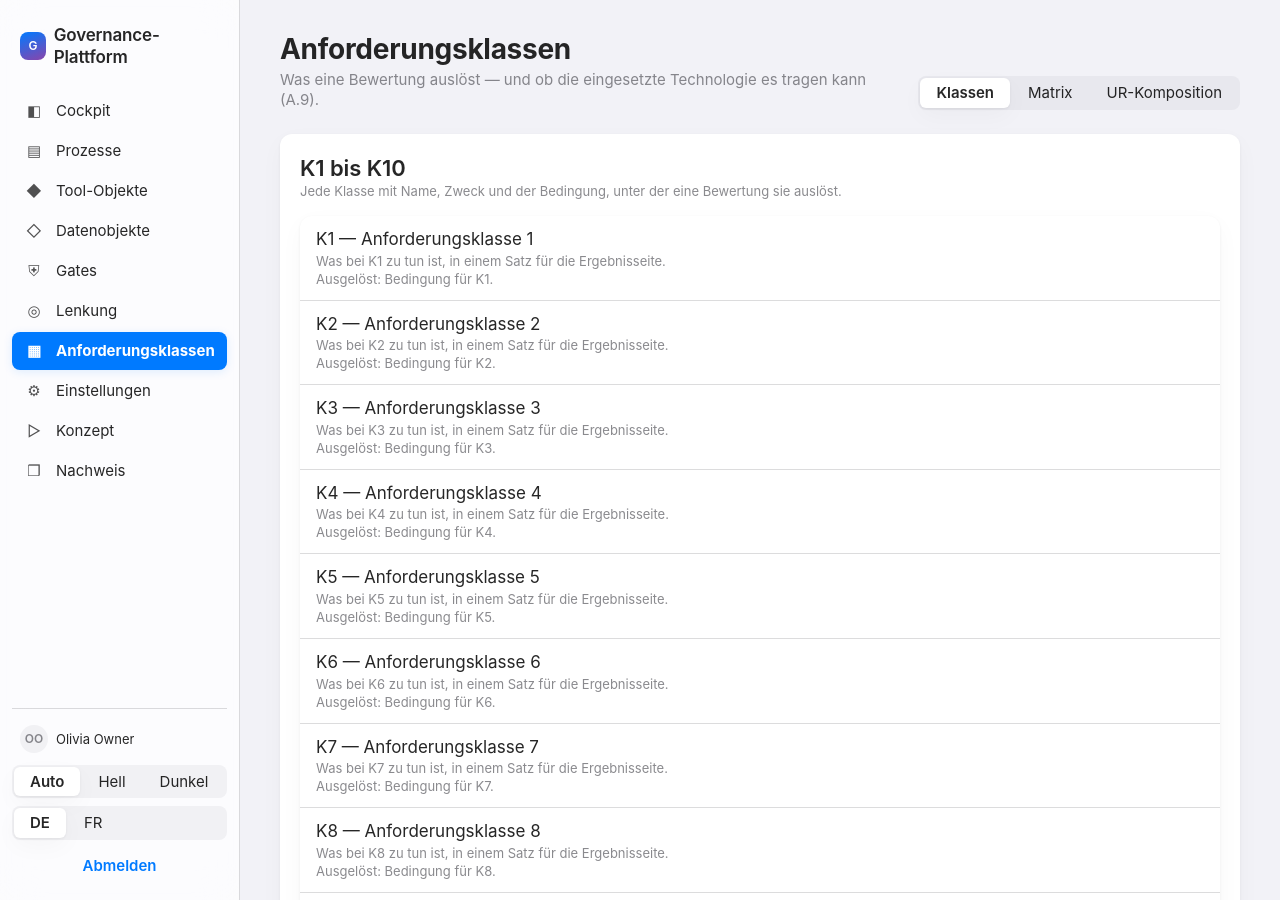
Test case: UR-Komposition (A.8.4) › pflegt ein Feld mit Pflichtbegründung
Expected: the element with test id "klasse-K1" is shown, [316,229,666,287]
Click the button "UR-Komposition".
click(1164, 93)  # box [1090,78,1238,108]
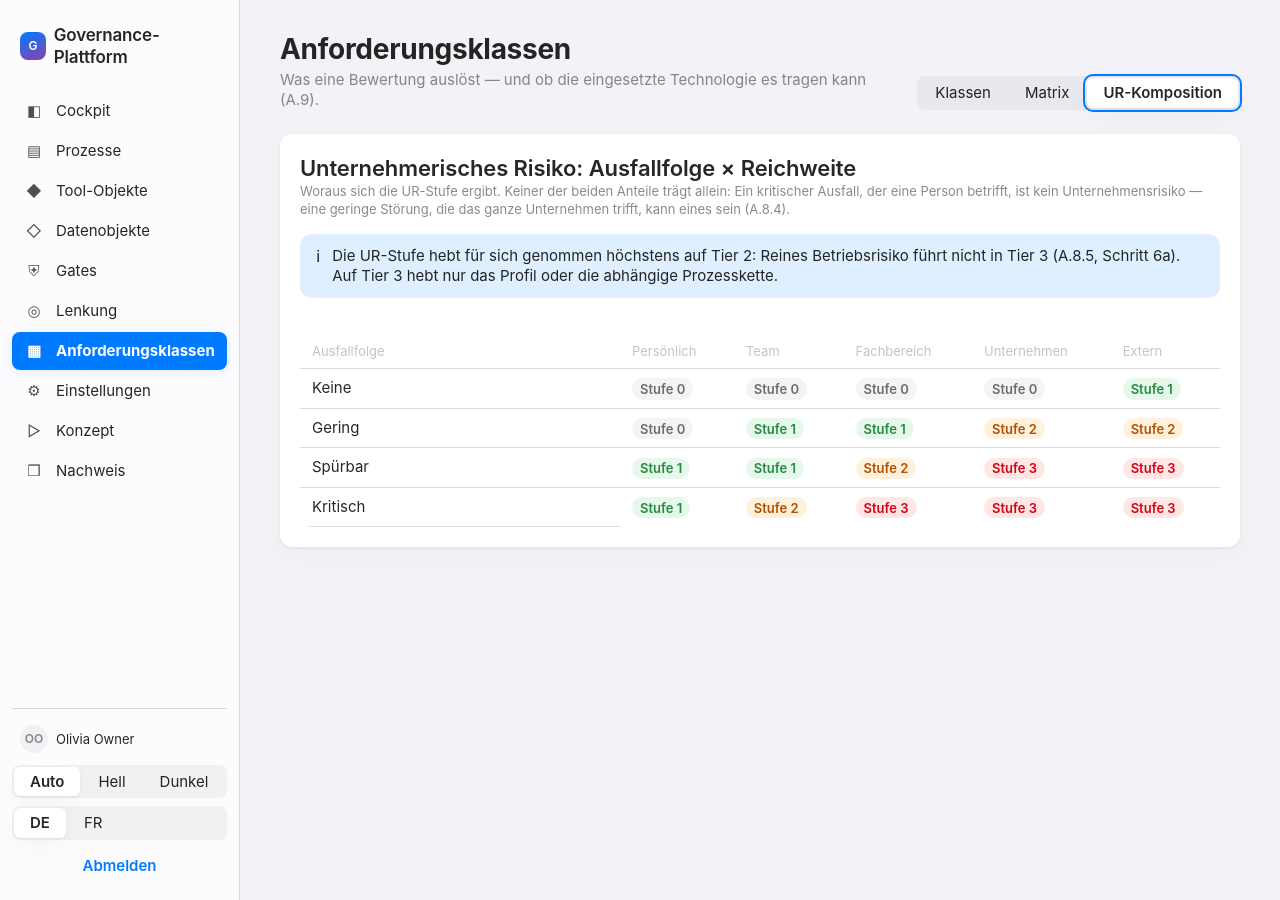
Click the button "Stufe 2" in the row of "Spürbar".
click(886, 468)  # box [856,456,916,479]
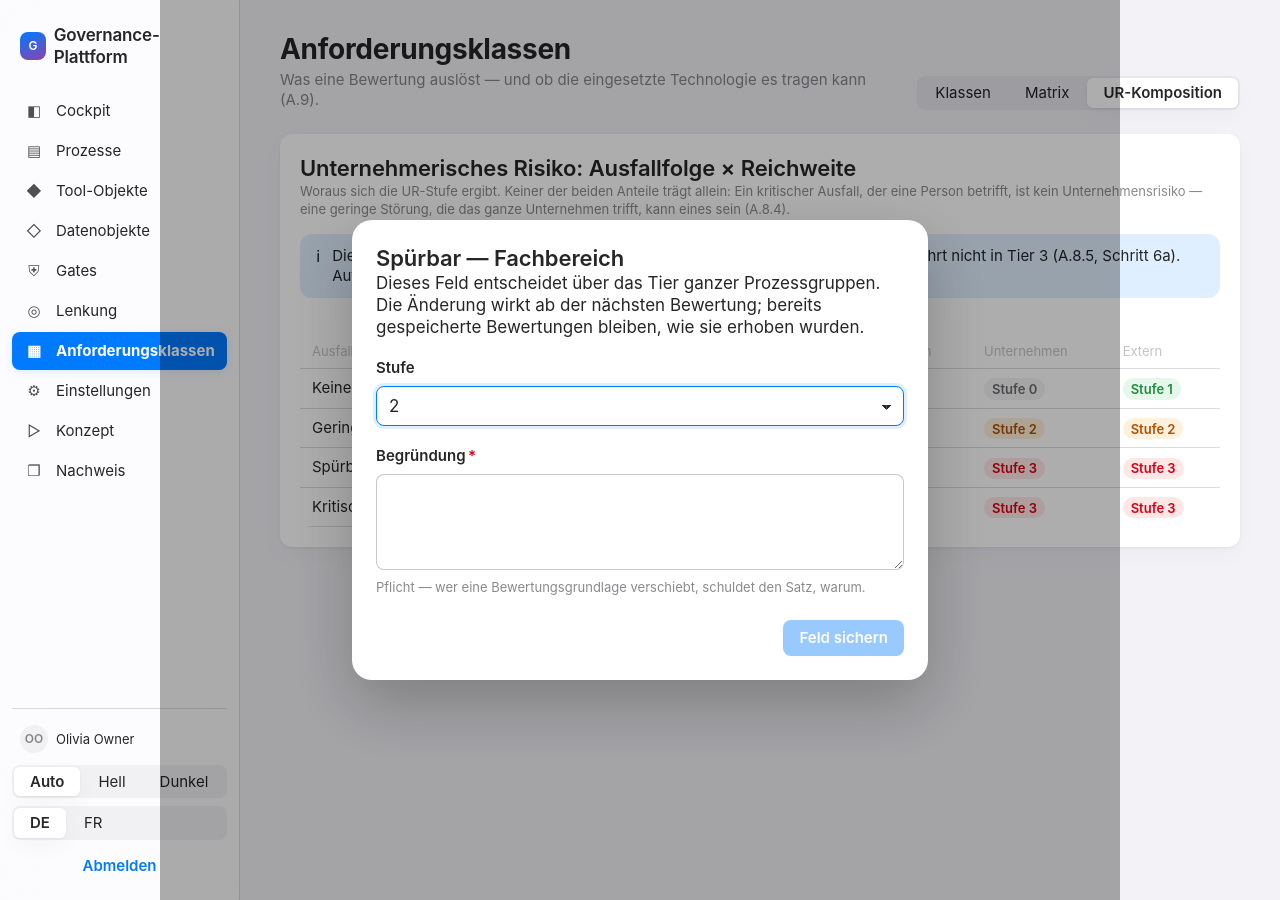
Expected: the button with test id "komposition-sichern" is disabled, [784,620,904,656]
Select "3" in the dropdown labelled "Stufe" at (640, 406), box [376,386,904,426]
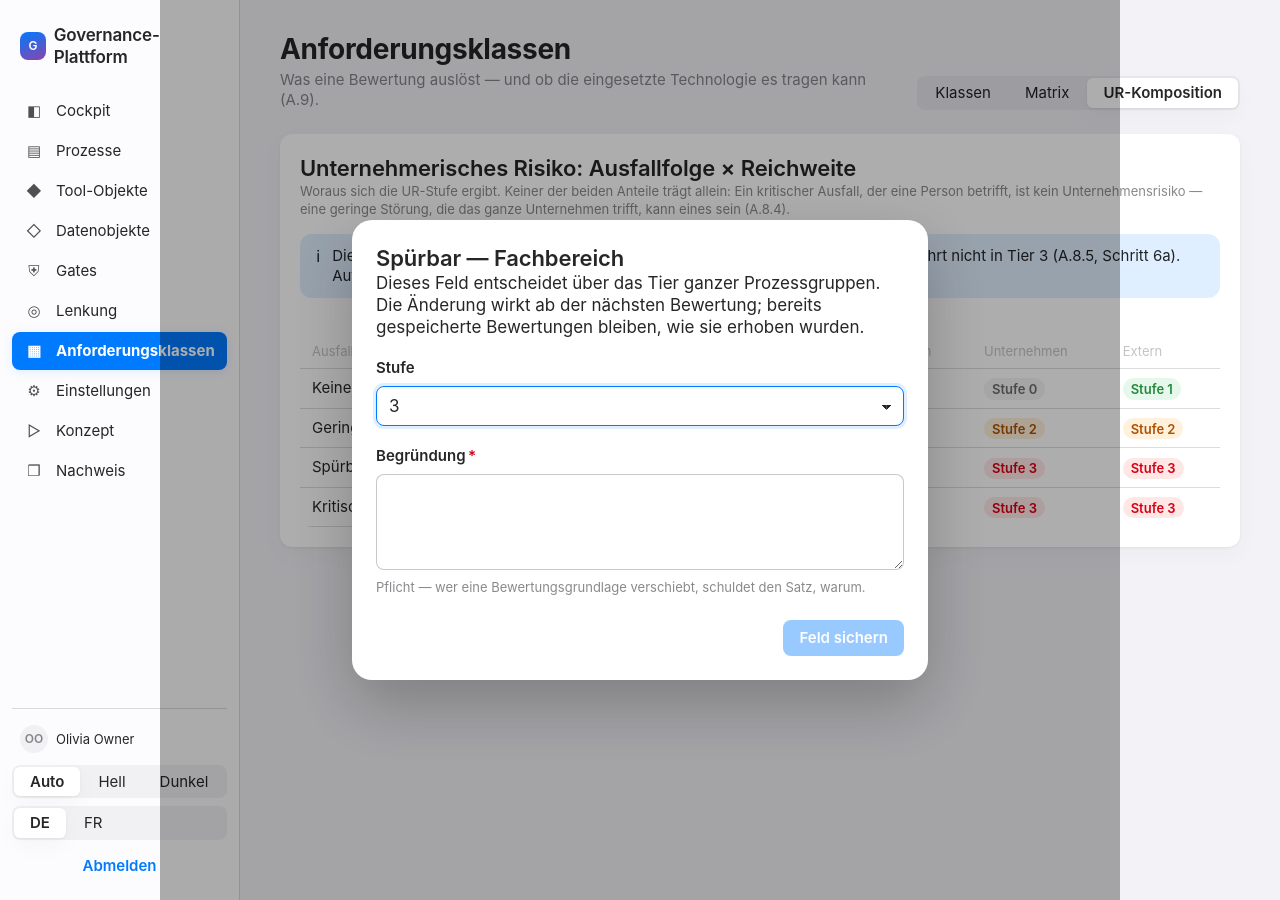
Type "Der Bereich trägt inzwischen die halbe Gruppe." into the text box labelled "Begründung".
click(640, 522); type("Der Bereich trägt inzwischen die halbe Gruppe.")  # box [376,474,904,570]
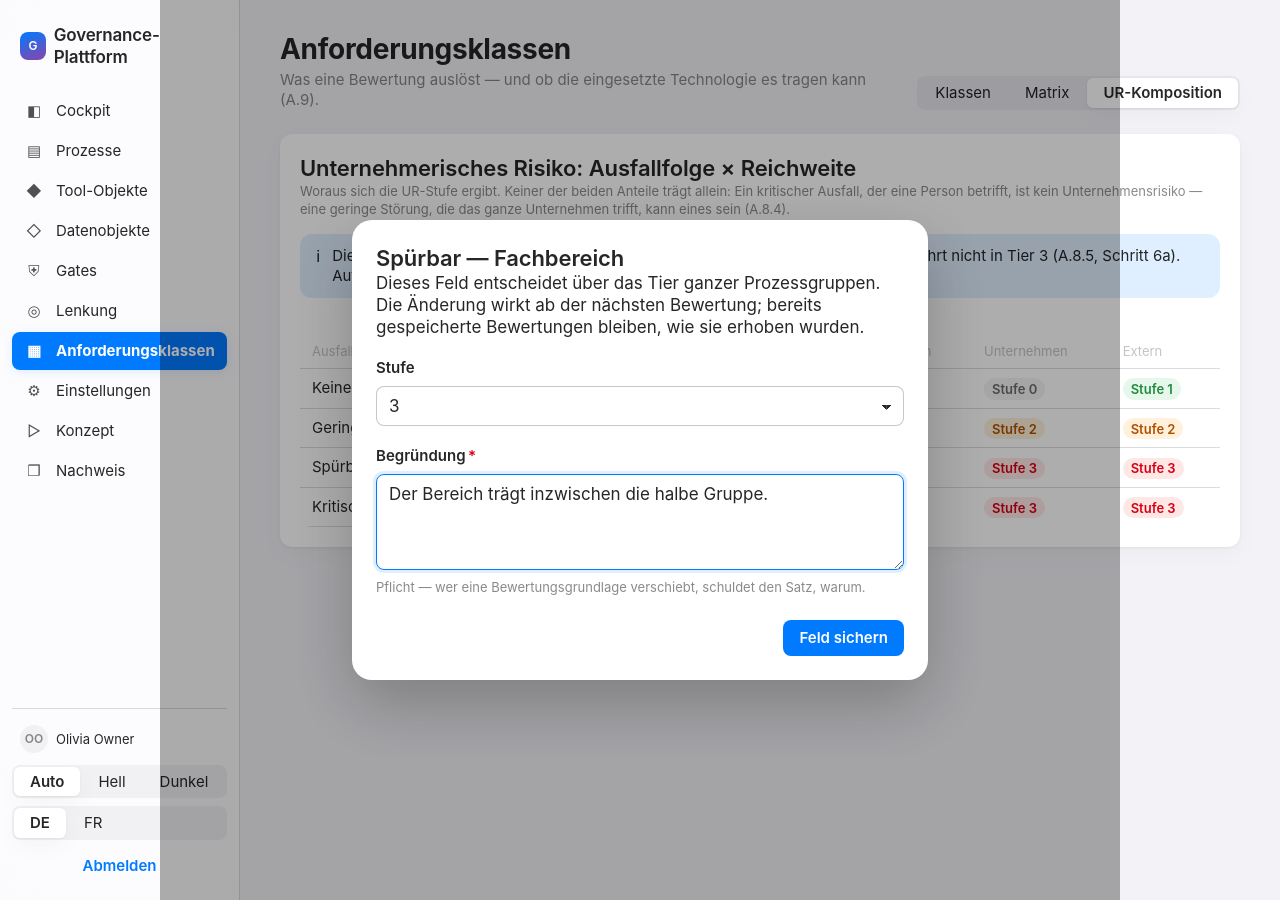
Click the button with test id "komposition-sichern".
click(844, 638)  # box [784,620,904,656]
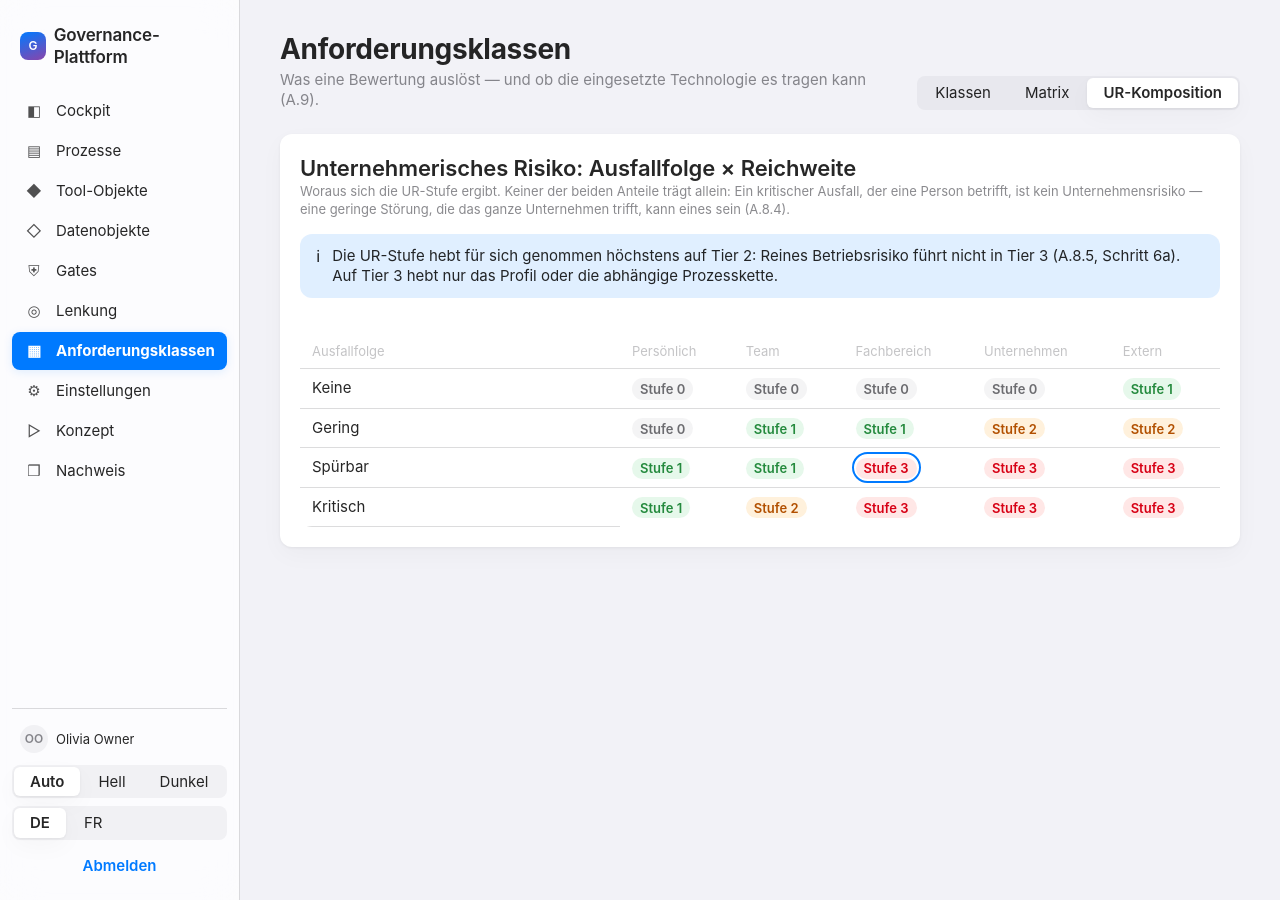
Expected: the cell with test id "komposition-spuerbar-bereich" shows "3", [856,456,916,479]
